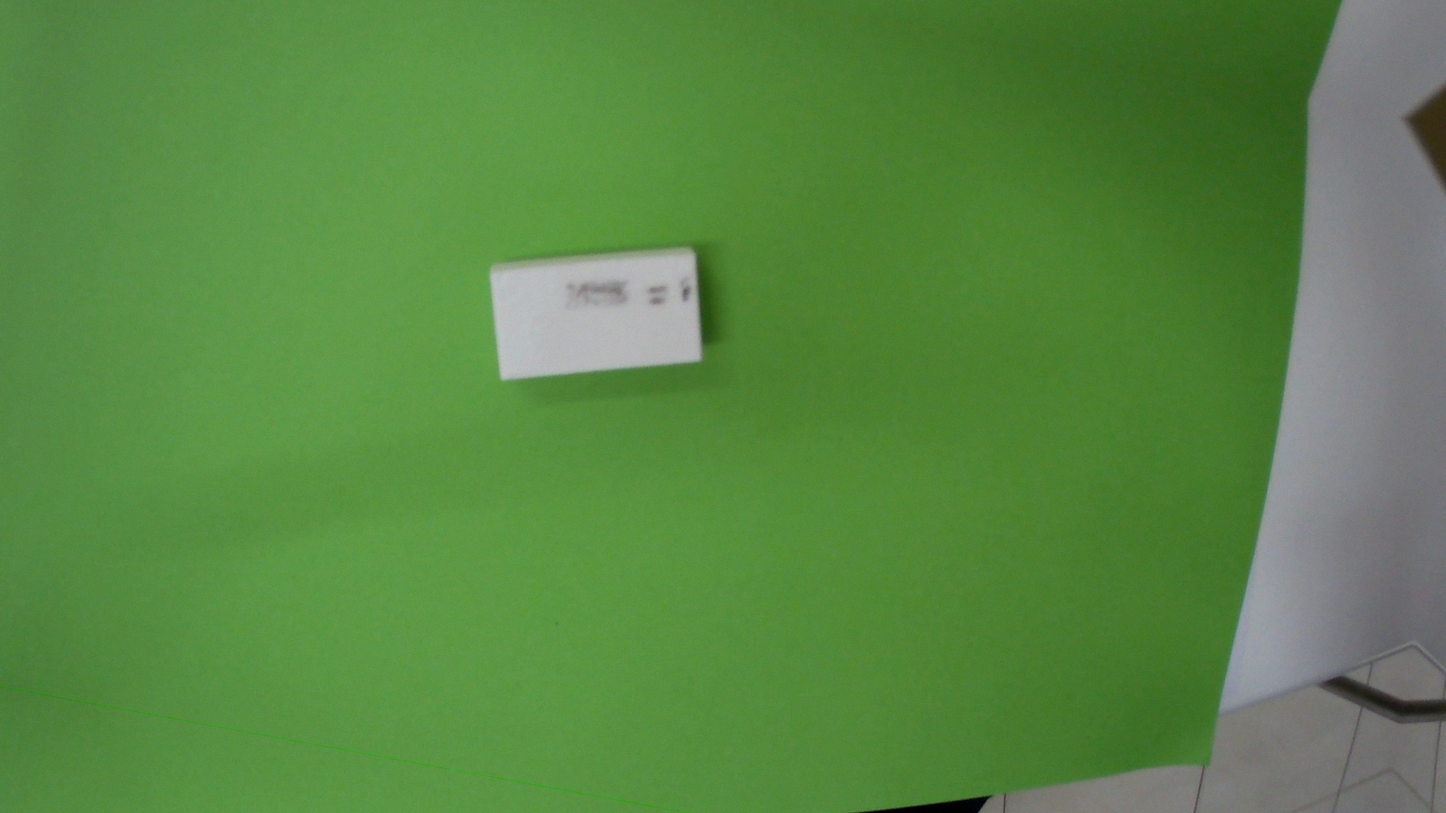gom: (470, 209, 734, 417)
